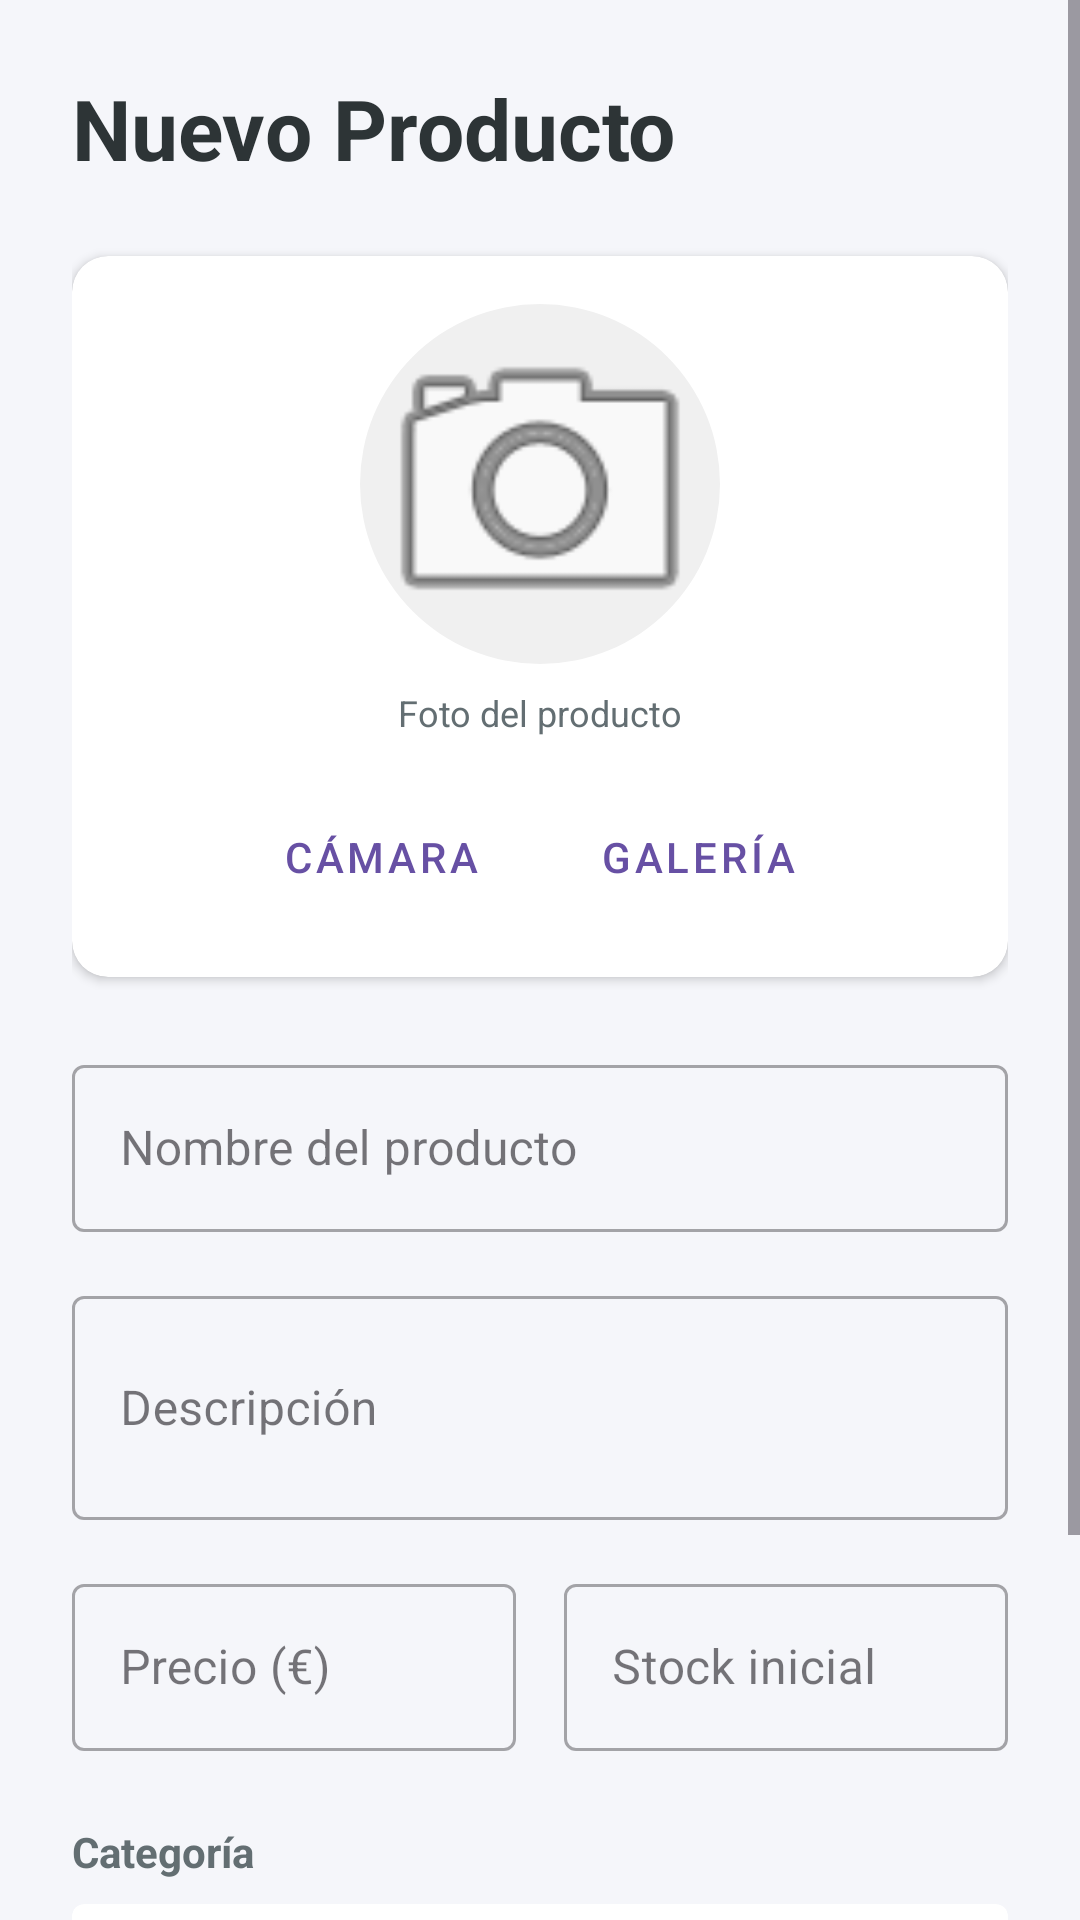

Where icons sit on this 1080*1920 app screen, as (x1, y1, x2, y2):
camera: (400, 366, 680, 590)
